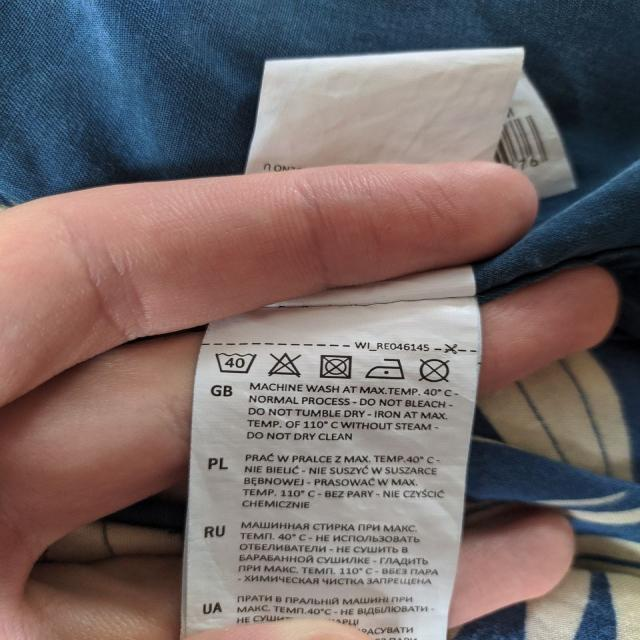40C: (210, 348, 259, 376)
DN_bleach: (265, 348, 306, 379)
DN_dry_clean: (418, 354, 454, 383)
DN_tumble_dry: (317, 352, 356, 381)
iron_low: (367, 355, 408, 380)
